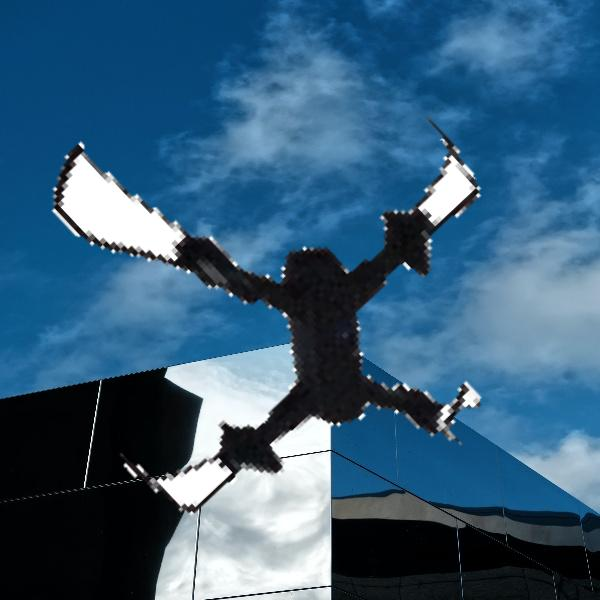drone: (17, 36, 527, 546)
